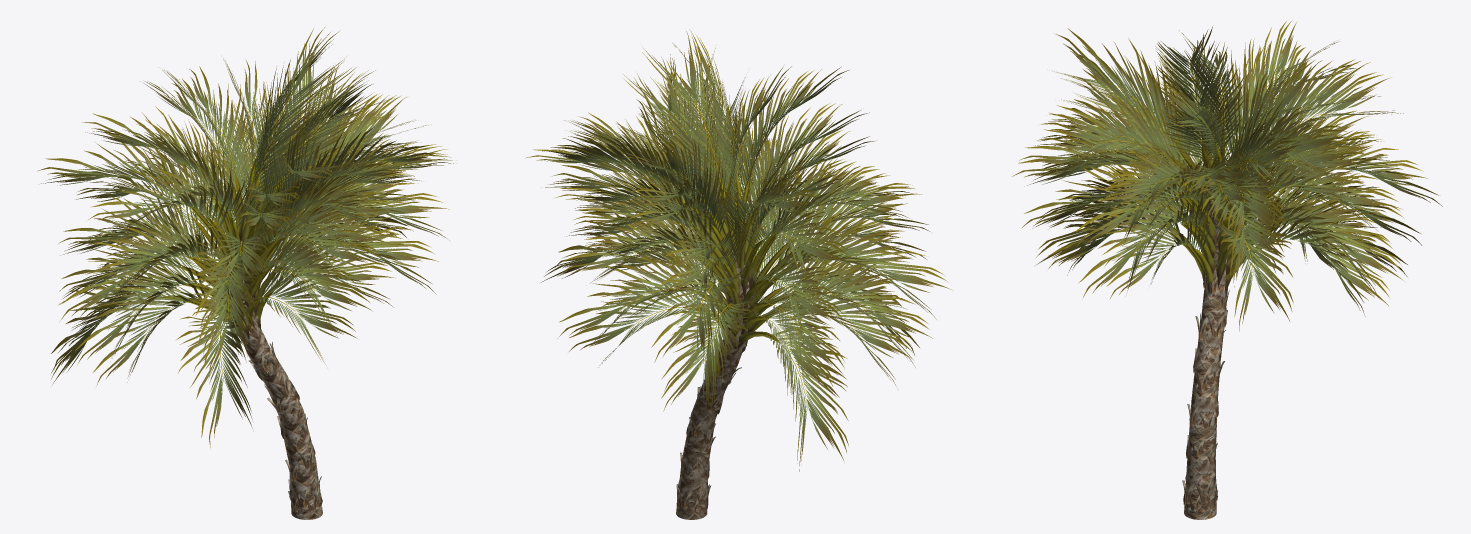
The model's file is Palmtwenty.obj.
The picture shows the model from 3 angles, left to right: view 1: azimuth 30°, elevation 25°; view 2: azimuth 150°, elevation 25°; view 3: azimuth 270°, elevation 25°; orthographic projection. The views are drawn at different scales.
Visible parts, largest first — view 1: curly palm leaf, frond stem, palm07, barkpalm; view 2: curly palm leaf, frond stem, palm07, barkpalm; view 3: curly palm leaf, palm07, frond stem, barkpalm.
Part boxes in pixels (box(x1,y1,x2,y2)): curly palm leaf: box(37, 27, 453, 447); frond stem: box(162, 156, 315, 339); palm07: box(231, 234, 322, 519); barkpalm: box(229, 264, 322, 513); curly palm leaf: box(525, 29, 952, 471); frond stem: box(673, 161, 807, 348); palm07: box(676, 240, 749, 519); barkpalm: box(676, 267, 753, 514); curly palm leaf: box(1012, 21, 1442, 331); palm07: box(1184, 198, 1227, 519); frond stem: box(1160, 123, 1284, 293); barkpalm: box(1182, 209, 1234, 511).
Bounding box in the file's own units: 240 × 281 × 233.
4 materials, 4 textured.
